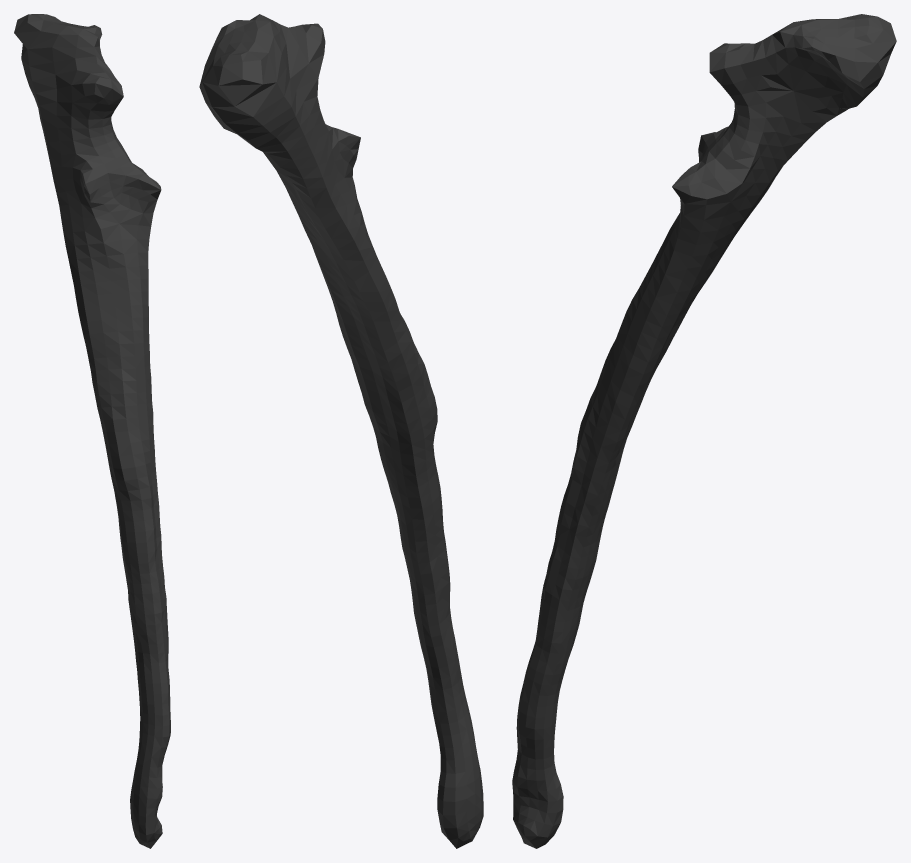
The model's file is Ulna_R.glb.
3 renders of one model, left to right at view 1: azimuth 30°, elevation 25°; view 2: azimuth 150°, elevation 25°; view 3: azimuth 270°, elevation 25°, orthographic. The views are drawn at different scales.
Visible parts, largest first — view 1: Ulna_R; view 2: Ulna_R; view 3: Ulna_R.
Part boxes in pixels (left/top/right/bottom): Ulna_R: left=14, top=14, right=170, bottom=848; Ulna_R: left=199, top=14, right=483, bottom=848; Ulna_R: left=512, top=14, right=896, bottom=848.
Size of the model in its own units: 1.5 by 10.91 by 4.48.
1 material, 1 textured.
